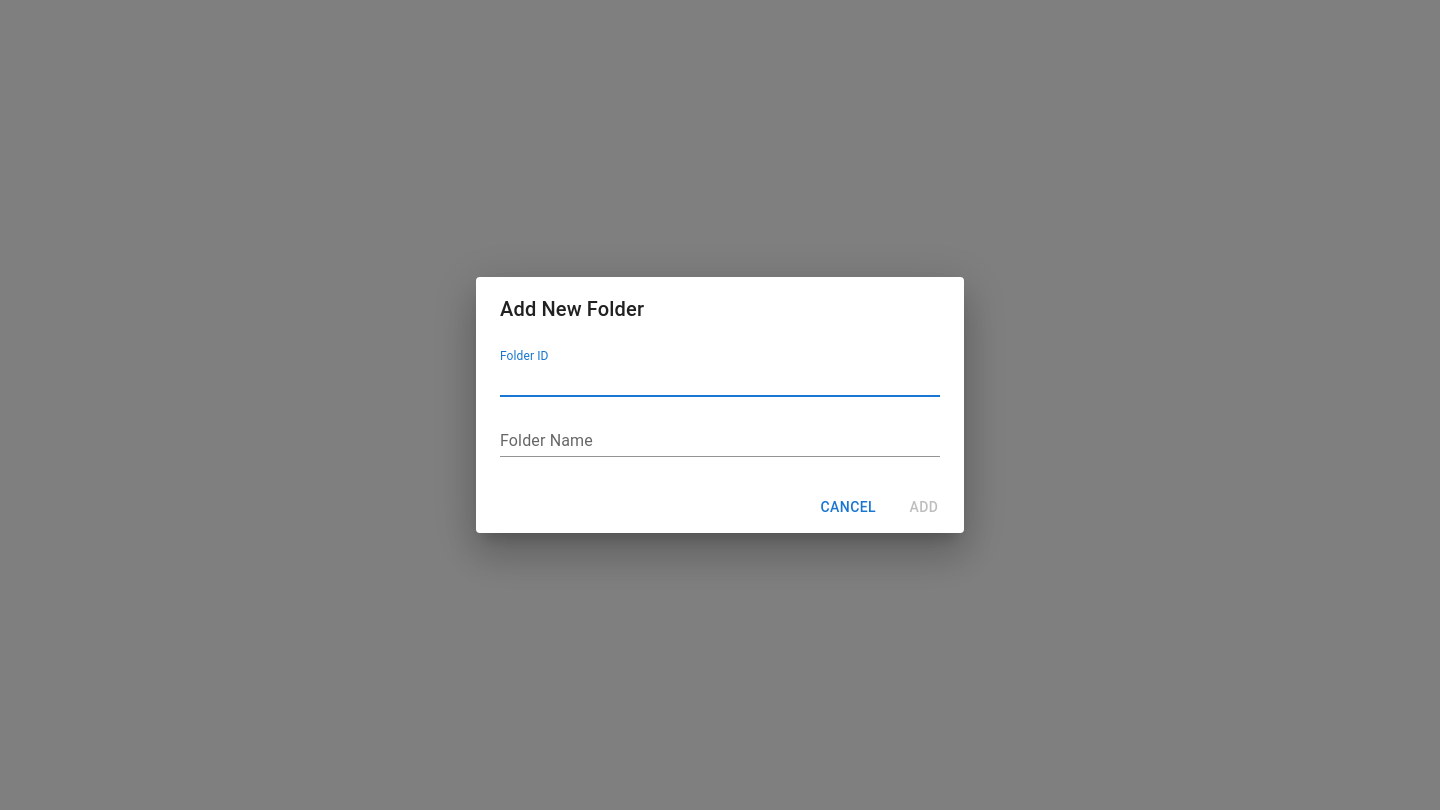
Scenario: FolderManagement › 存在しないフォルダIDを入力するとエラーが表示されて Add が無効のまま
Type "wrong-id" into the password field labelled "Folder ID" at coordinates (720, 381), box [500, 365, 940, 397]
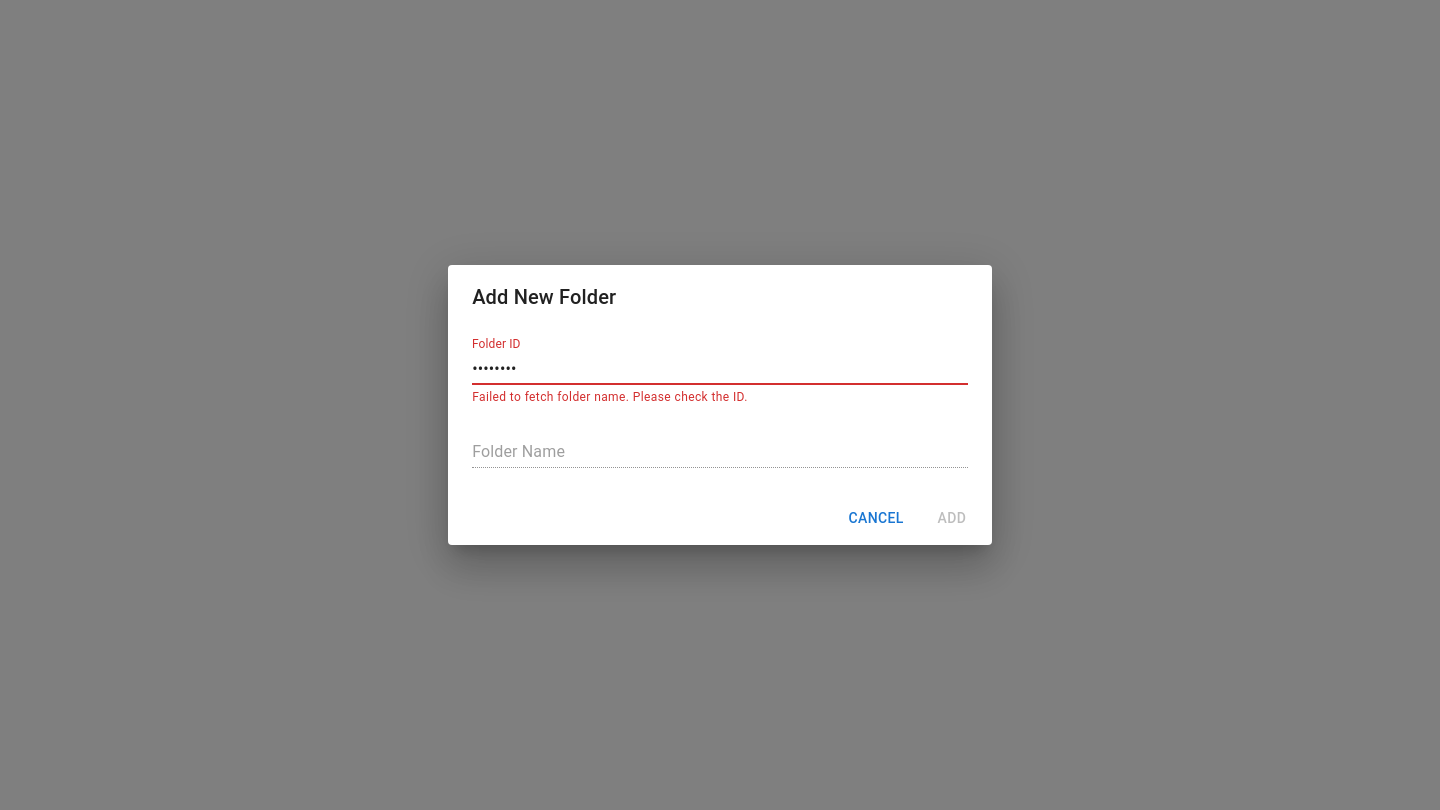
expect the button "Add" is disabled: met, box [920, 500, 984, 537]
expect the text "Failed to fetch folder name. Please check the ID." is shown: met, box [472, 390, 748, 404]
